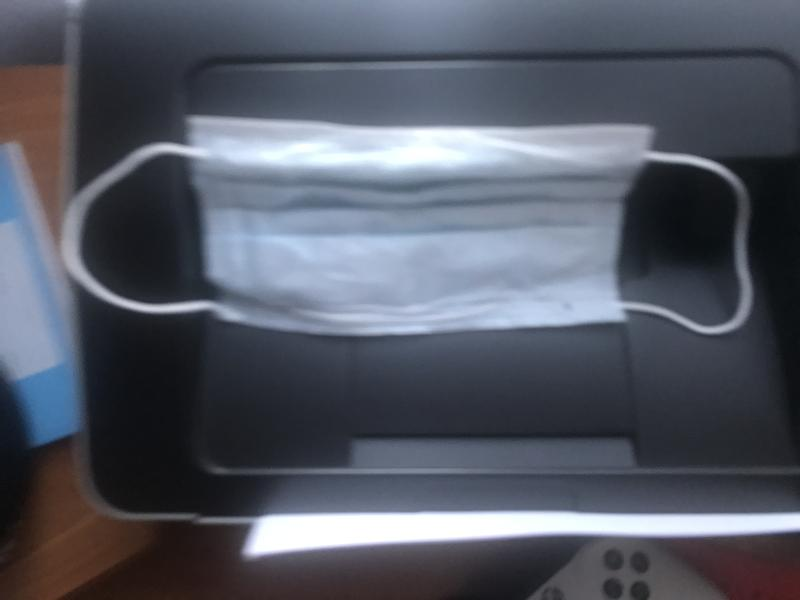medical_mask: (61, 113, 754, 337)
